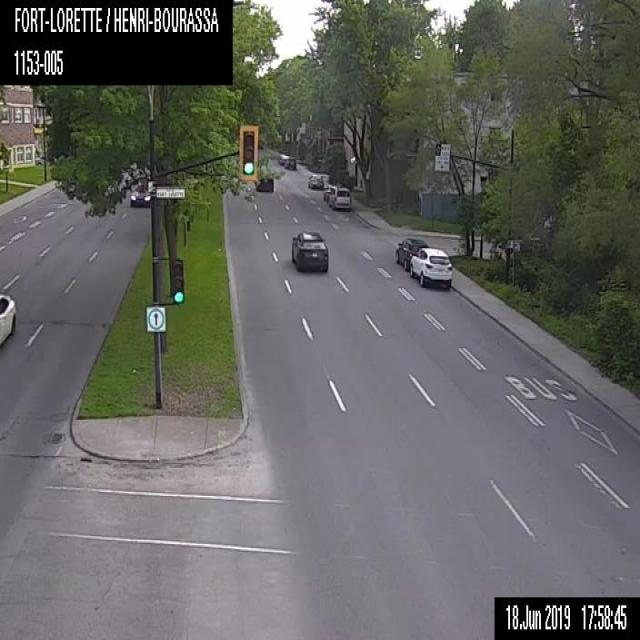vehicle: (409, 246, 454, 289), (289, 227, 329, 273), (393, 235, 427, 266), (0, 291, 17, 349), (329, 184, 351, 211), (128, 184, 150, 209), (252, 176, 274, 192), (308, 173, 324, 188), (283, 156, 297, 169), (322, 184, 331, 200), (277, 152, 288, 164)
